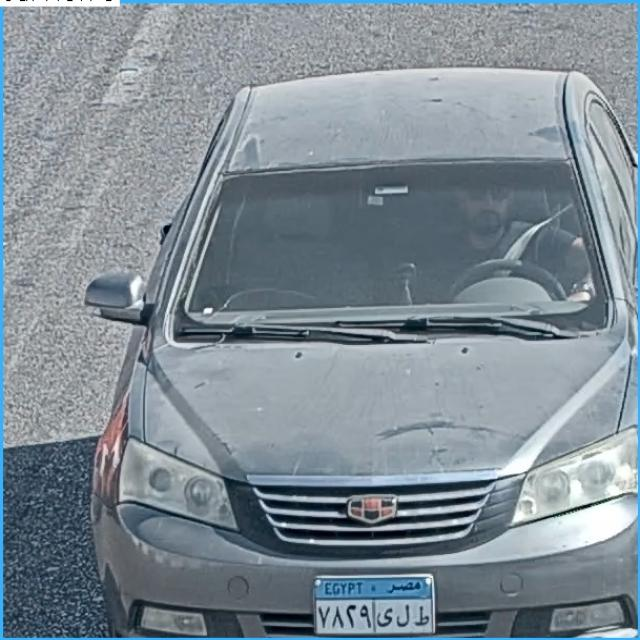windshield: (169, 171, 602, 311)
